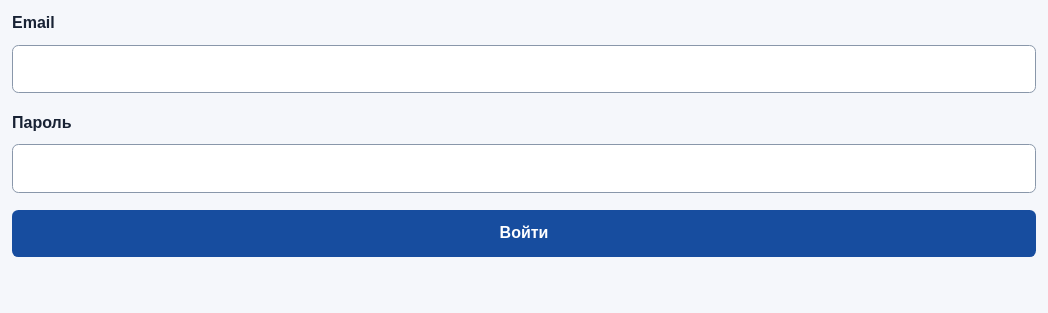
Test: database outage is not presented as invalid credentials
This screenshot has width=1048, height=313.
Type "user@example.com" into the field labelled "Email".
click(524, 69); type("user@example.com")  # box [12,45,1036,93]
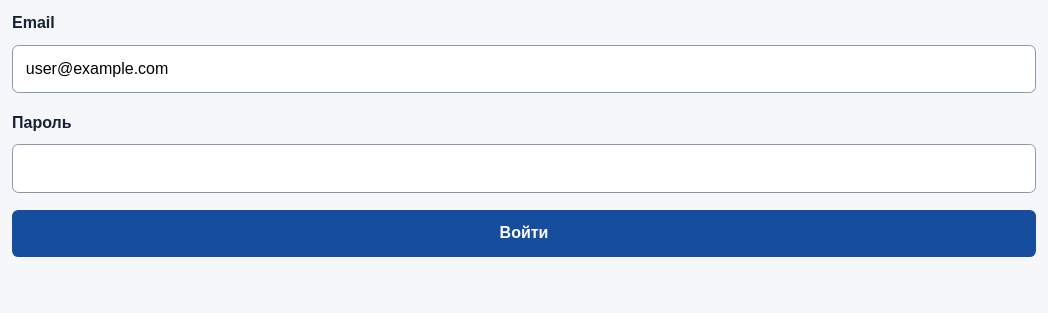
Type "password-123" into the password field labelled "Пароль".
click(524, 168); type("password-123")  # box [12,144,1036,193]
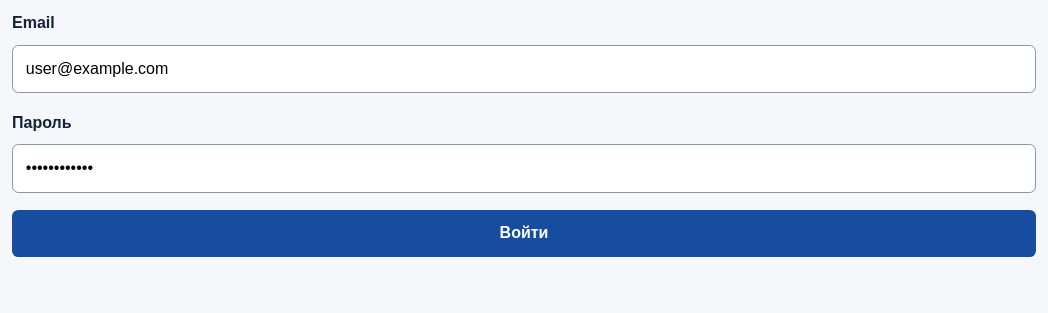
Click the button "Войти".
click(524, 233)  # box [12,210,1036,256]
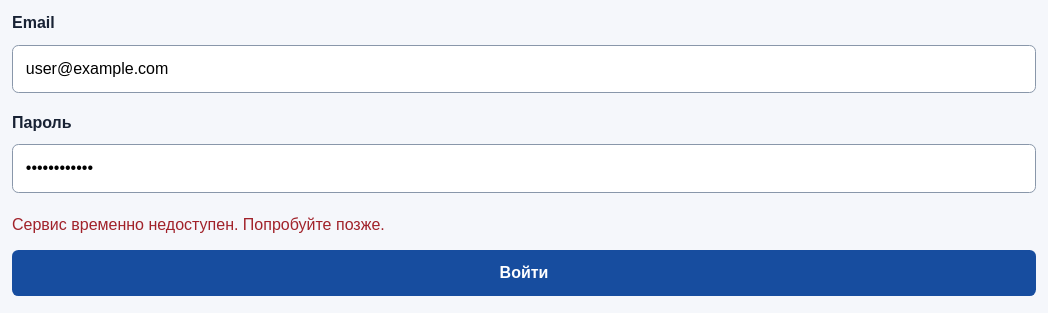
Check: the message shows "Сервис временно недоступен", box [12,216,385,233]
